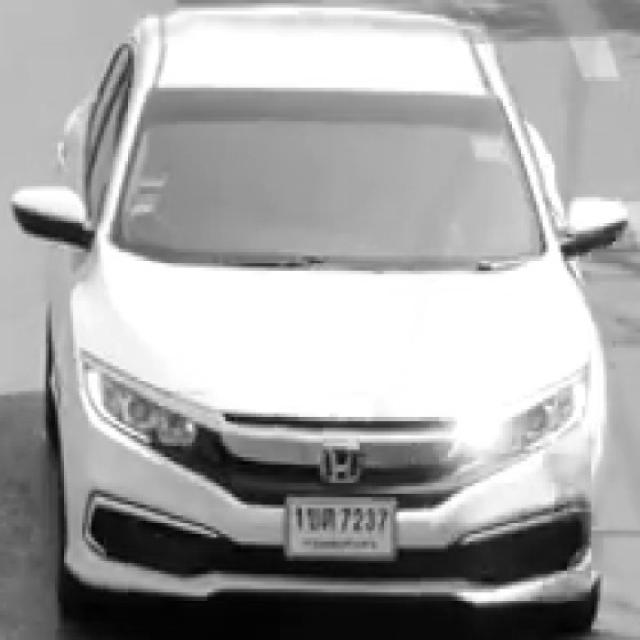plate: (284, 496, 397, 561)
